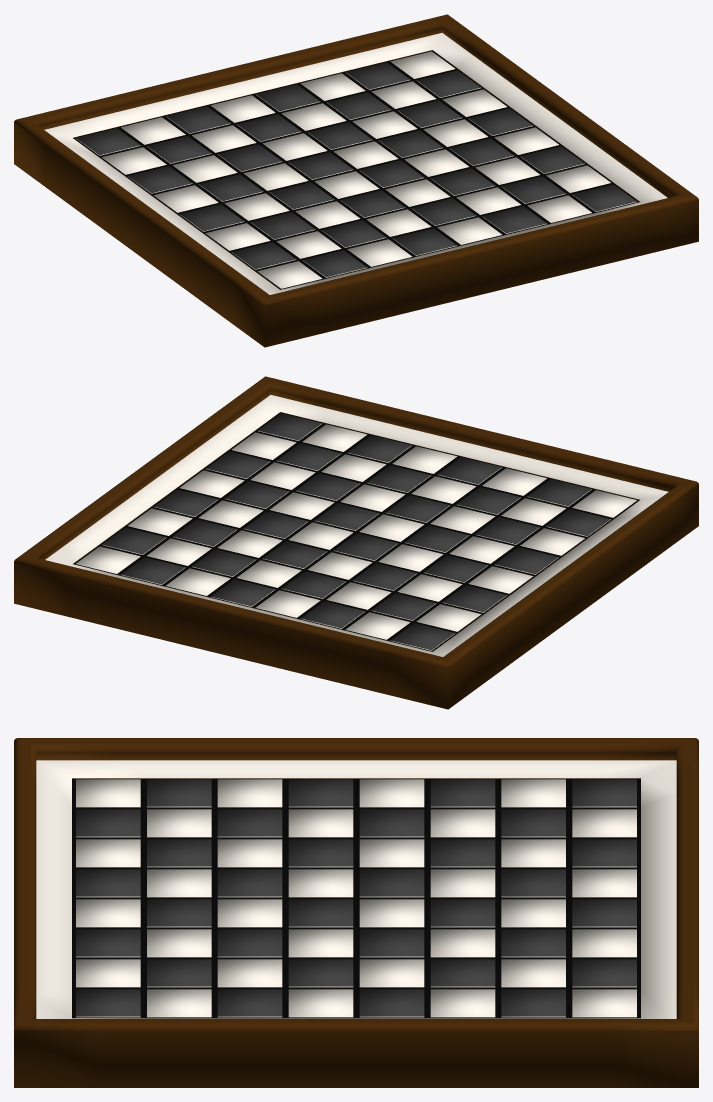
Rendered from Board_Type2.fbx.
3 views of the same model, one above another, from view 1: azimuth 30°, elevation 25°; view 2: azimuth 150°, elevation 25°; view 3: azimuth 270°, elevation 25° (orthographic). The views are drawn at different scales.
Parts seen in each view (by area): view 1: Cube.001; view 2: Cube.001; view 3: Cube.001.
Part boxes in pixels (<box>): Cube.001: <box>14,14,698,347</box>; Cube.001: <box>14,376,698,709</box>; Cube.001: <box>14,738,698,1087</box>.
Size of the model in its own units: 9.66 by 0.9704 by 9.66.
